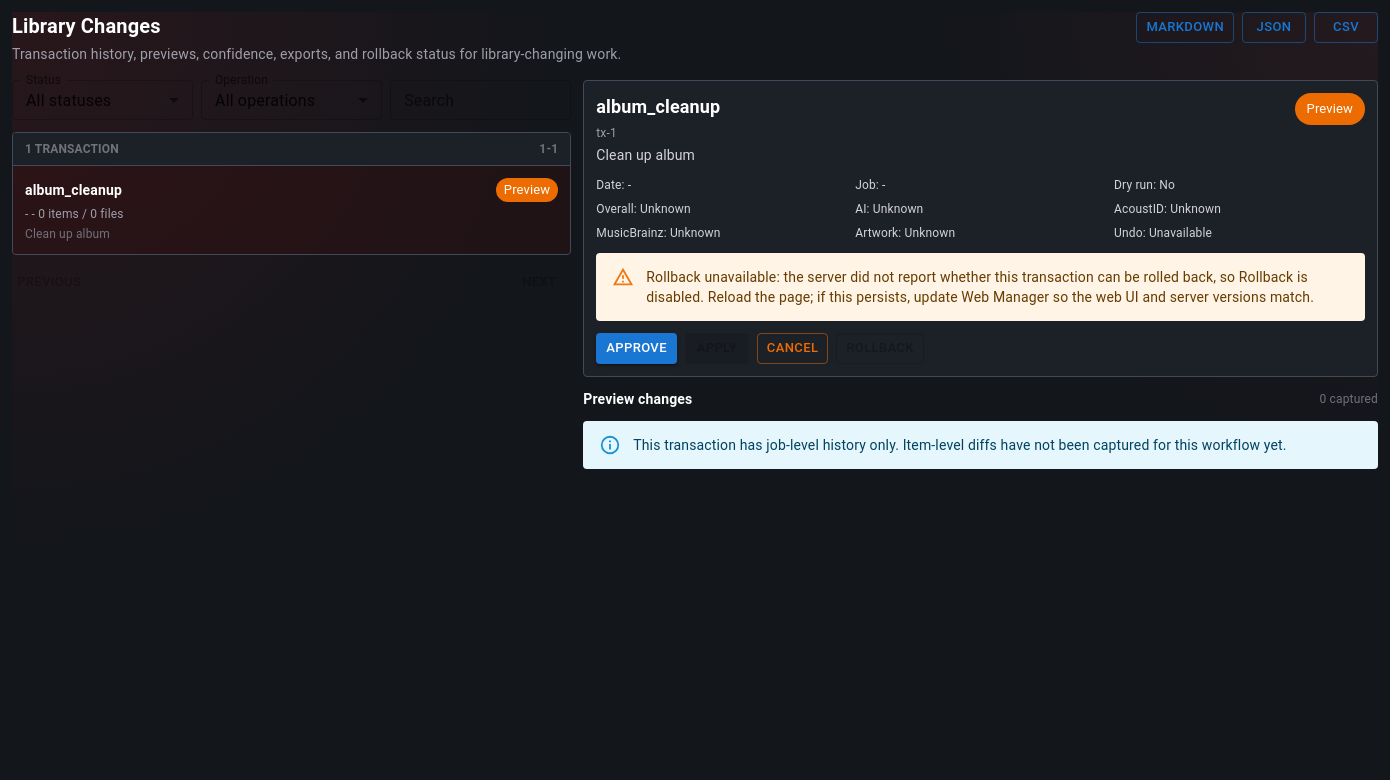
Test: LibraryChanges approve › explains a lost state-transition race
The image size is (1390, 780).
Expected: the text "Clean up album" below "tx-1" is shown, [596,147,695,163]
Click the button "Approve".
click(637, 348)  # box [596,333,677,364]
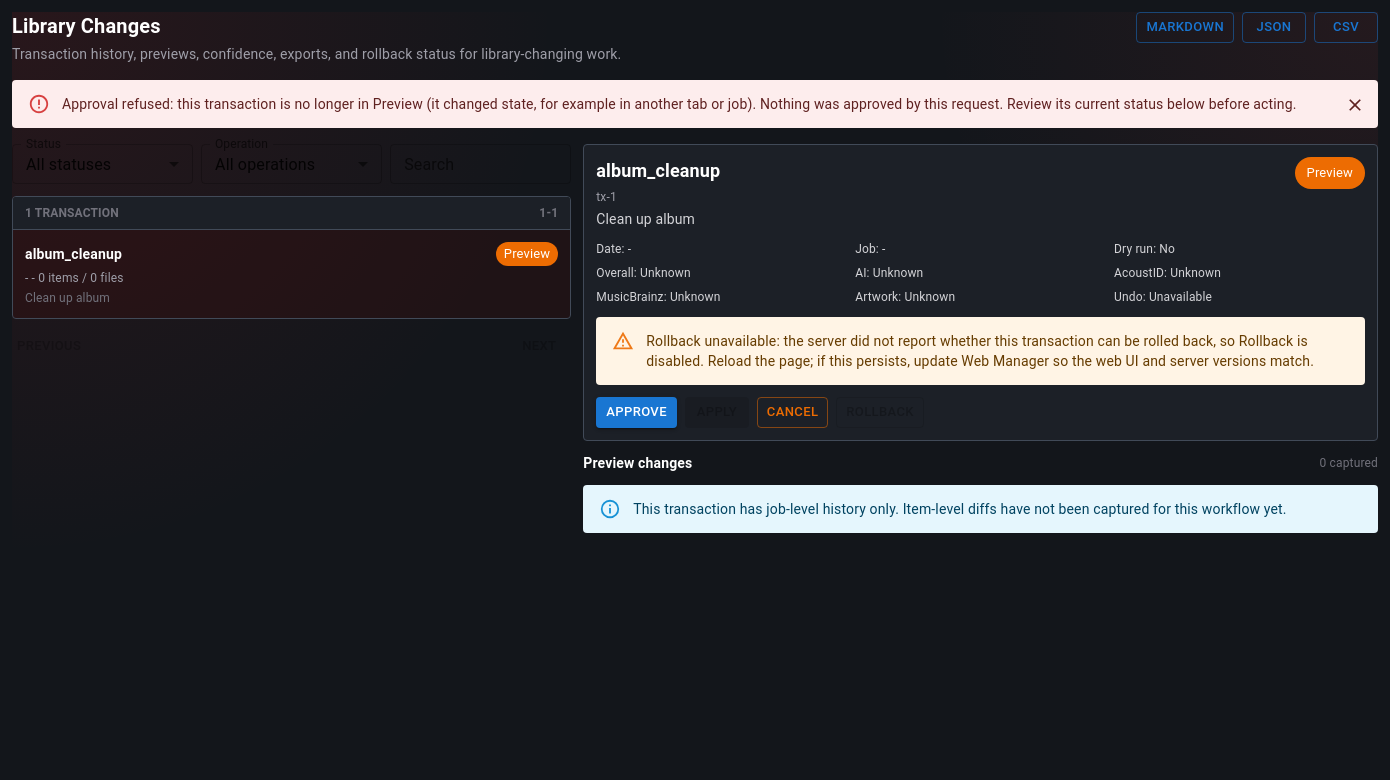
Expected: the text "no longer in Preview" is shown, [62,96,1297,112]
